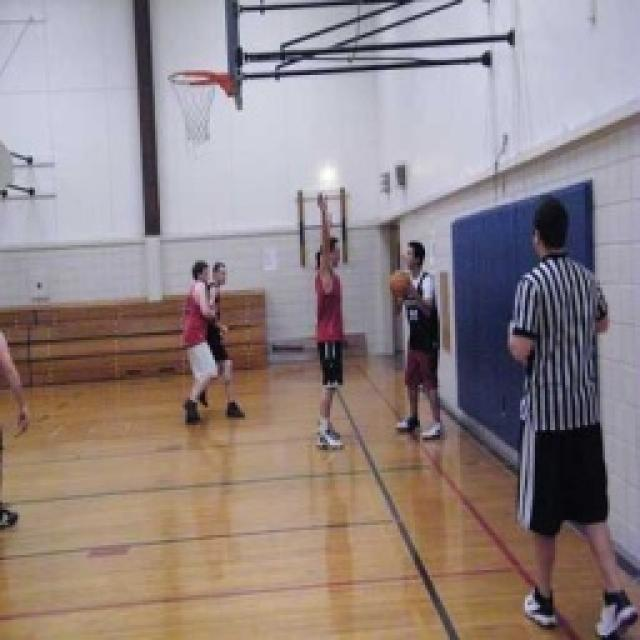rim: (388, 269, 410, 303)
